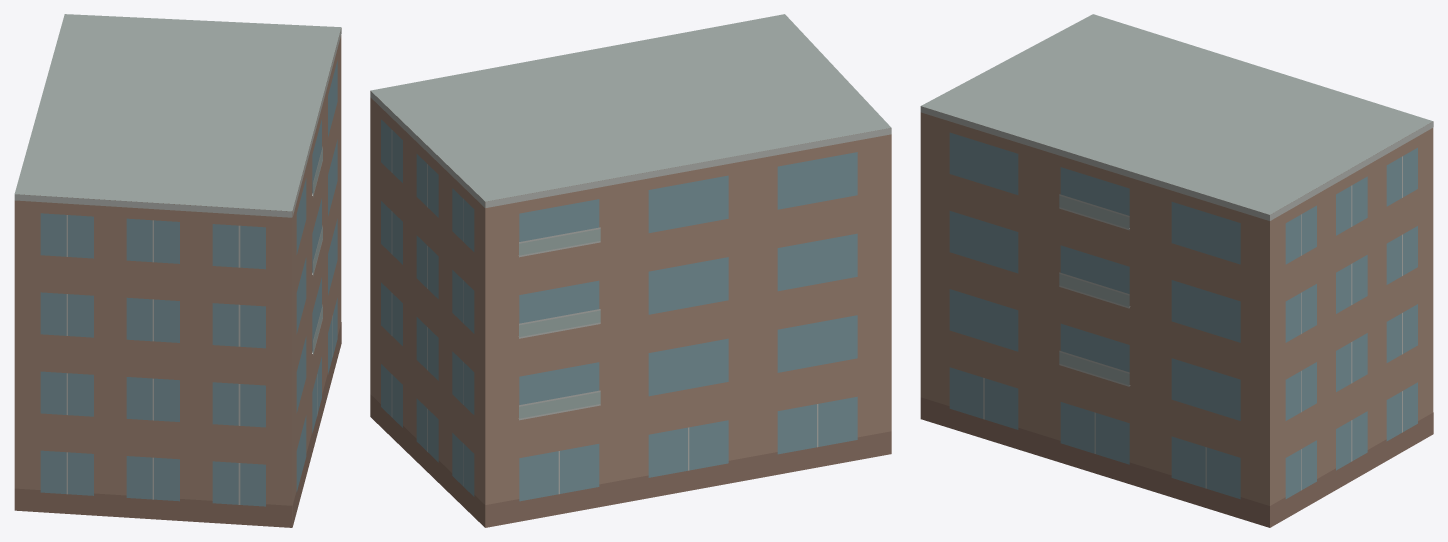
The model's file is survey-upis-32908606.glb.
The picture shows the model from 3 angles, left to right: view 1: azimuth 30°, elevation 25°; view 2: azimuth 150°, elevation 25°; view 3: azimuth 270°, elevation 25°; orthographic projection. The views are drawn at different scales.
Visible parts, largest first — view 1: survey-upis-32908606.tmp; view 2: survey-upis-32908606.tmp; view 3: survey-upis-32908606.tmp.
Boxes of the visible parts, box(x1,y1,x2,y2) form: survey-upis-32908606.tmp: box(14, 14, 341, 527); survey-upis-32908606.tmp: box(370, 14, 891, 527); survey-upis-32908606.tmp: box(920, 14, 1433, 527).
Bounding box in the file's own units: 16.81 × 12.2 × 18.12.
